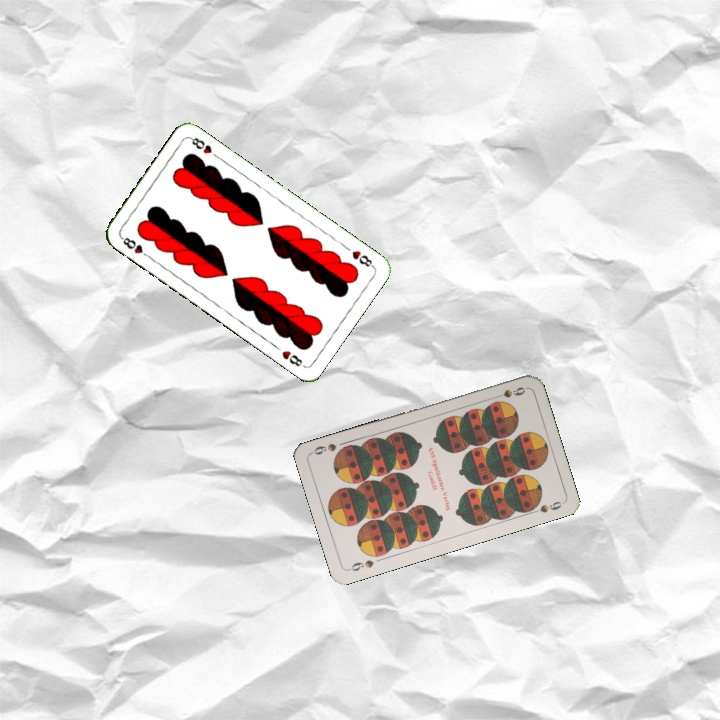H8: (117, 233, 153, 261), (348, 246, 377, 270)
S9: (488, 383, 528, 402), (344, 556, 376, 574)
